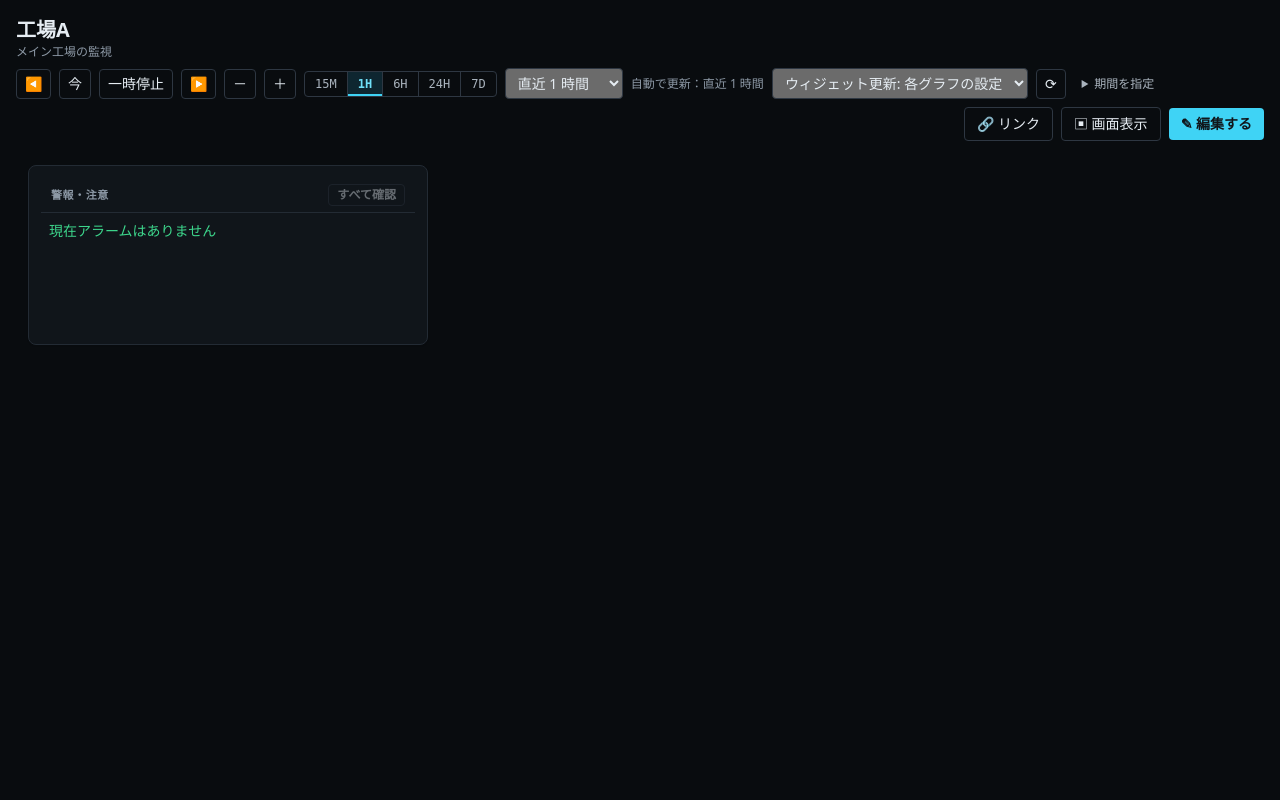
DashboardView › グラフが 1 つも無いダッシュボードでも「🔗 リンク」を押せる（ダッシュボード全体のリンクは作れる）
Click the button "🔗 リンク" at (1009, 124), box [964,107,1053,141]
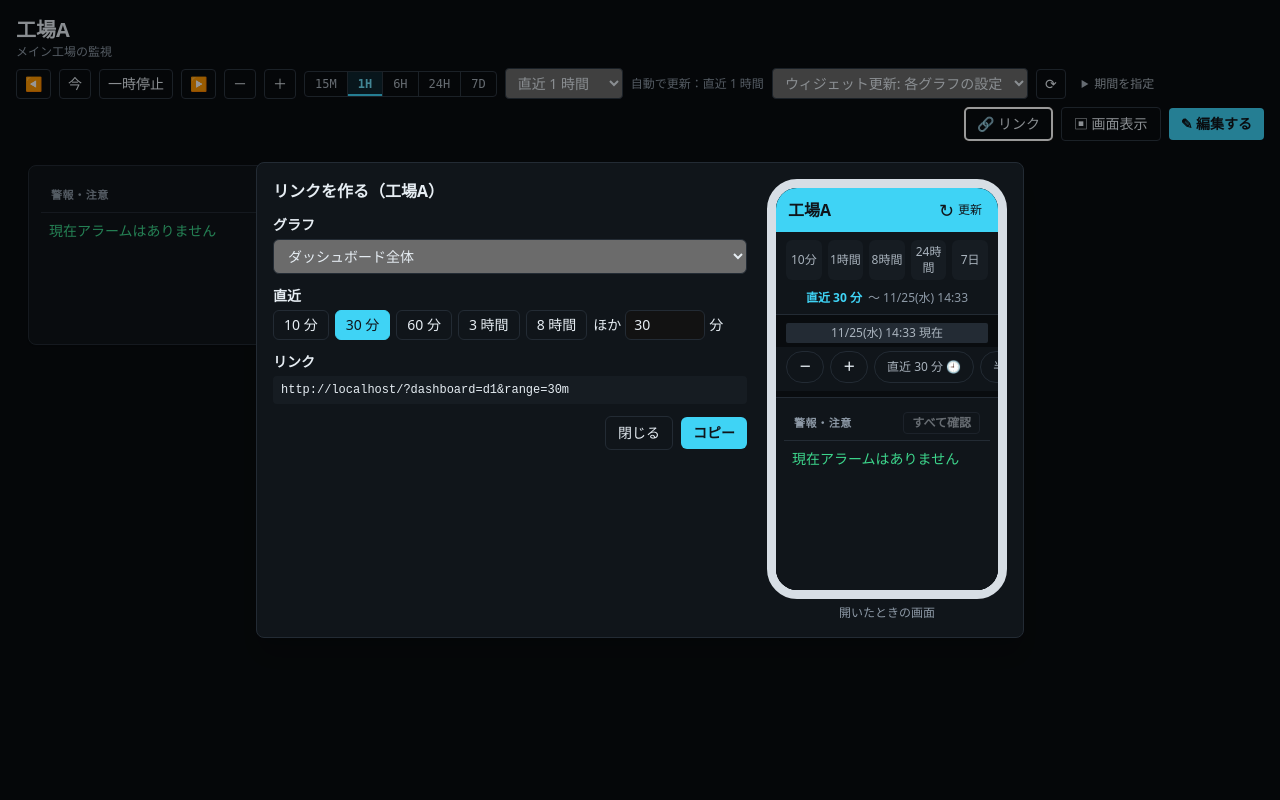
Expected: the text "http://localhost/?dashboard=d1&range=30m" is shown, [273,376,747,404]
